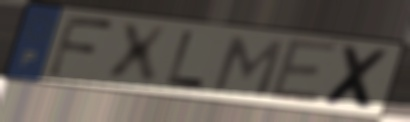E: (267, 36, 341, 106)
F: (44, 13, 118, 81)
L: (163, 30, 208, 92)
M: (209, 34, 287, 100)
X: (319, 43, 394, 113), (105, 21, 171, 86)
